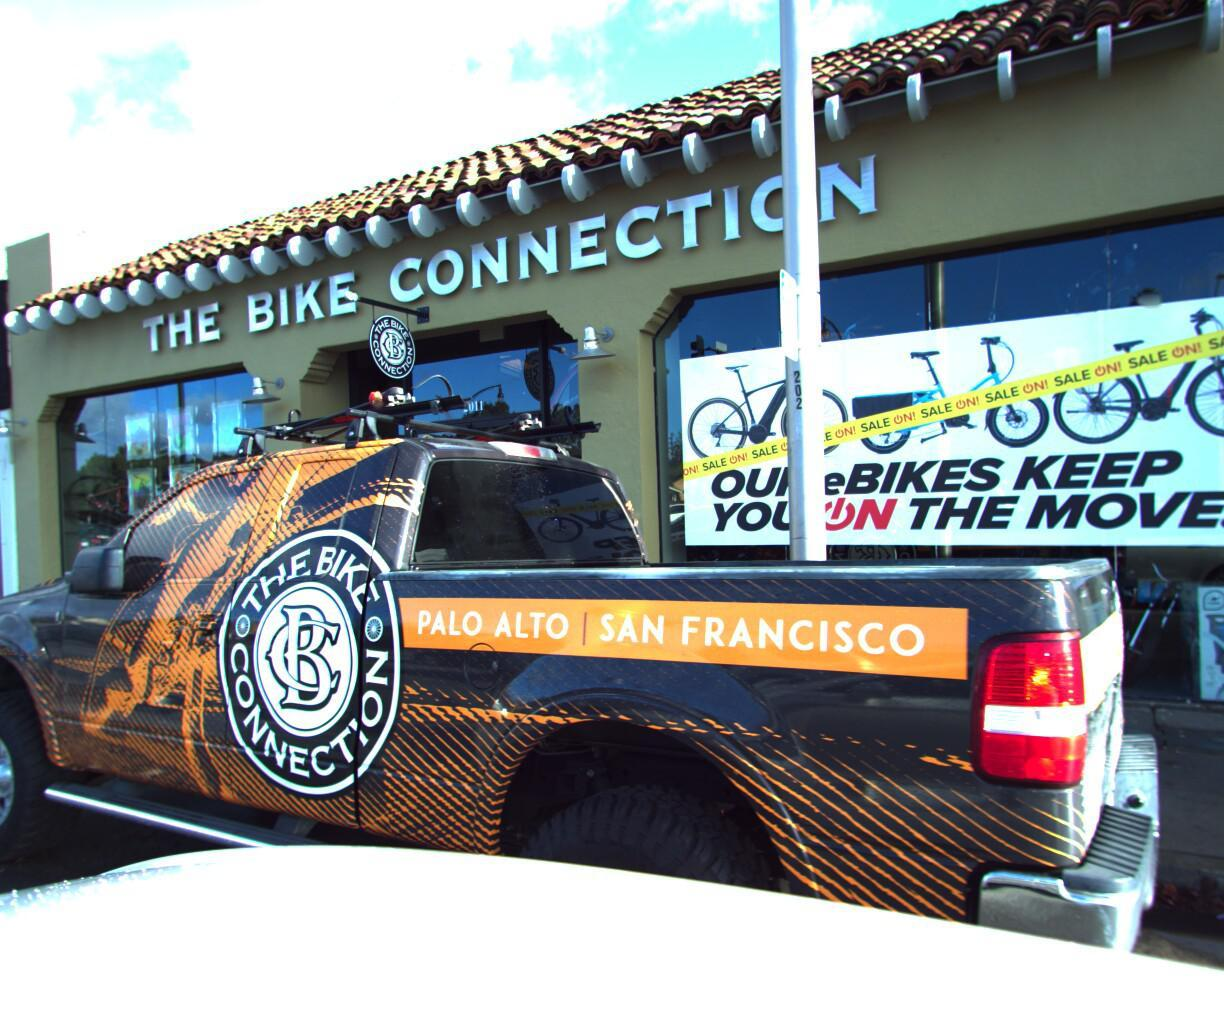car: (0, 254, 1202, 1024)
